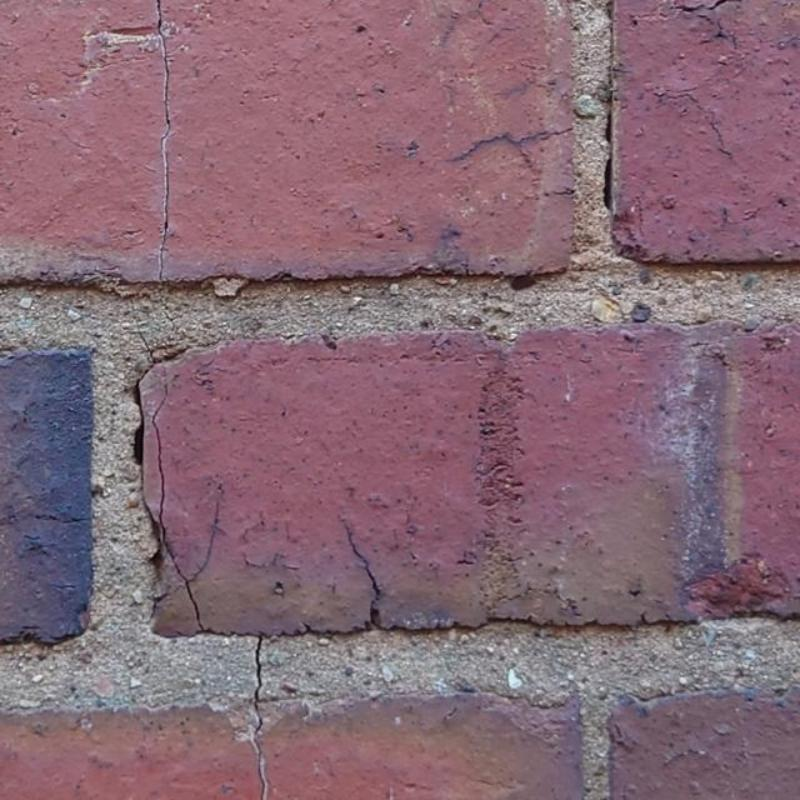pothole: (151, 369, 229, 631), (133, 380, 163, 584), (443, 126, 575, 163), (339, 516, 381, 626), (156, 0, 170, 280), (248, 636, 269, 799)
